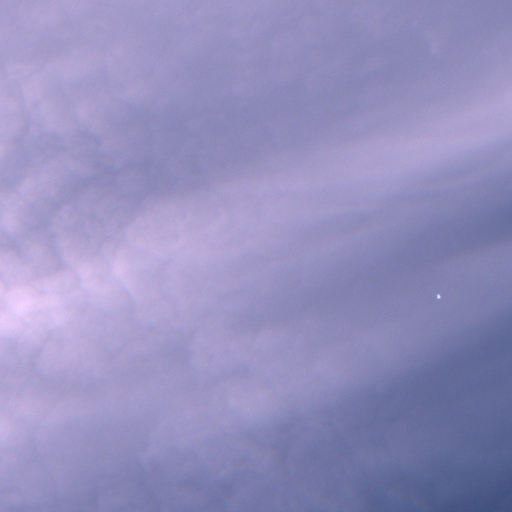Iceberg: (437, 294, 440, 298)
